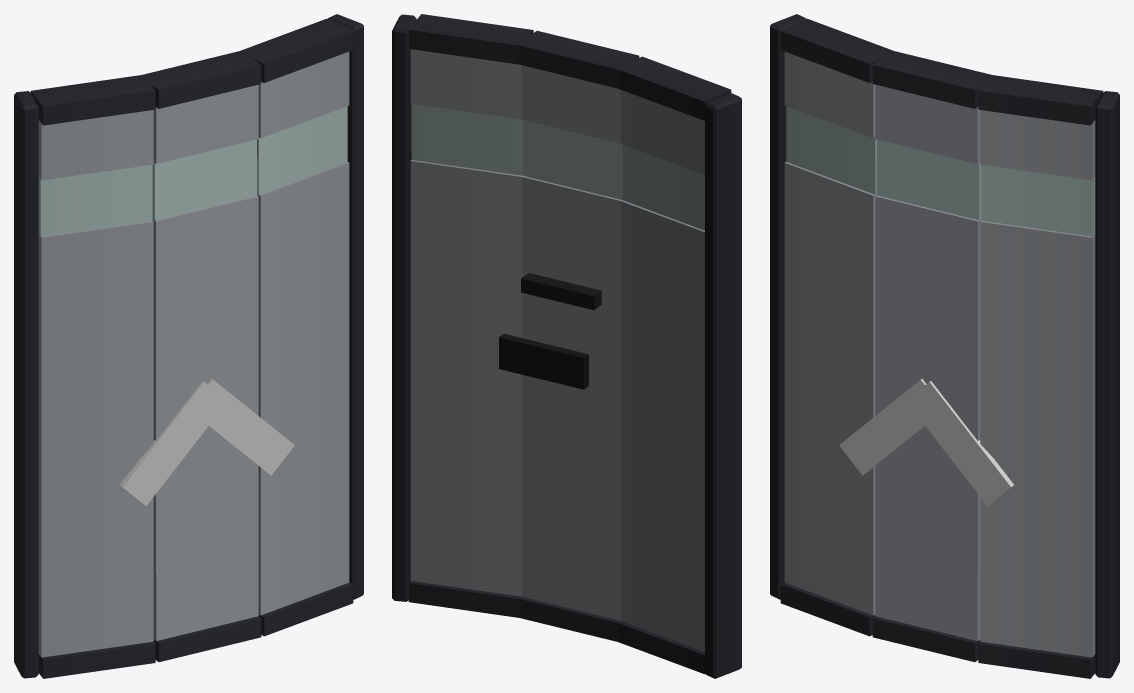
The model's file is riot_shield_lod1.glb.
3 renders of one model, left to right at view 1: azimuth 30°, elevation 25°; view 2: azimuth 150°, elevation 25°; view 3: azimuth 330°, elevation 25°, orthographic.
Visible parts, largest first — view 1: riot_shield_lod1; view 2: riot_shield_lod1; view 3: riot_shield_lod1.
Boxes of the visible parts, x1=… form: riot_shield_lod1: x1=14, y1=14, x2=363, y2=678; riot_shield_lod1: x1=392, y1=14, x2=741, y2=678; riot_shield_lod1: x1=770, y1=14, x2=1119, y2=678.
Bounding box in the file's own units: 0.5635 × 0.8999 × 0.1329.
